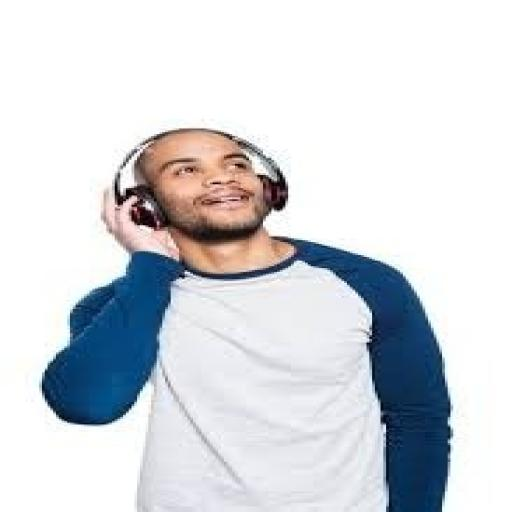listening_to_music: (36, 125, 456, 510)
